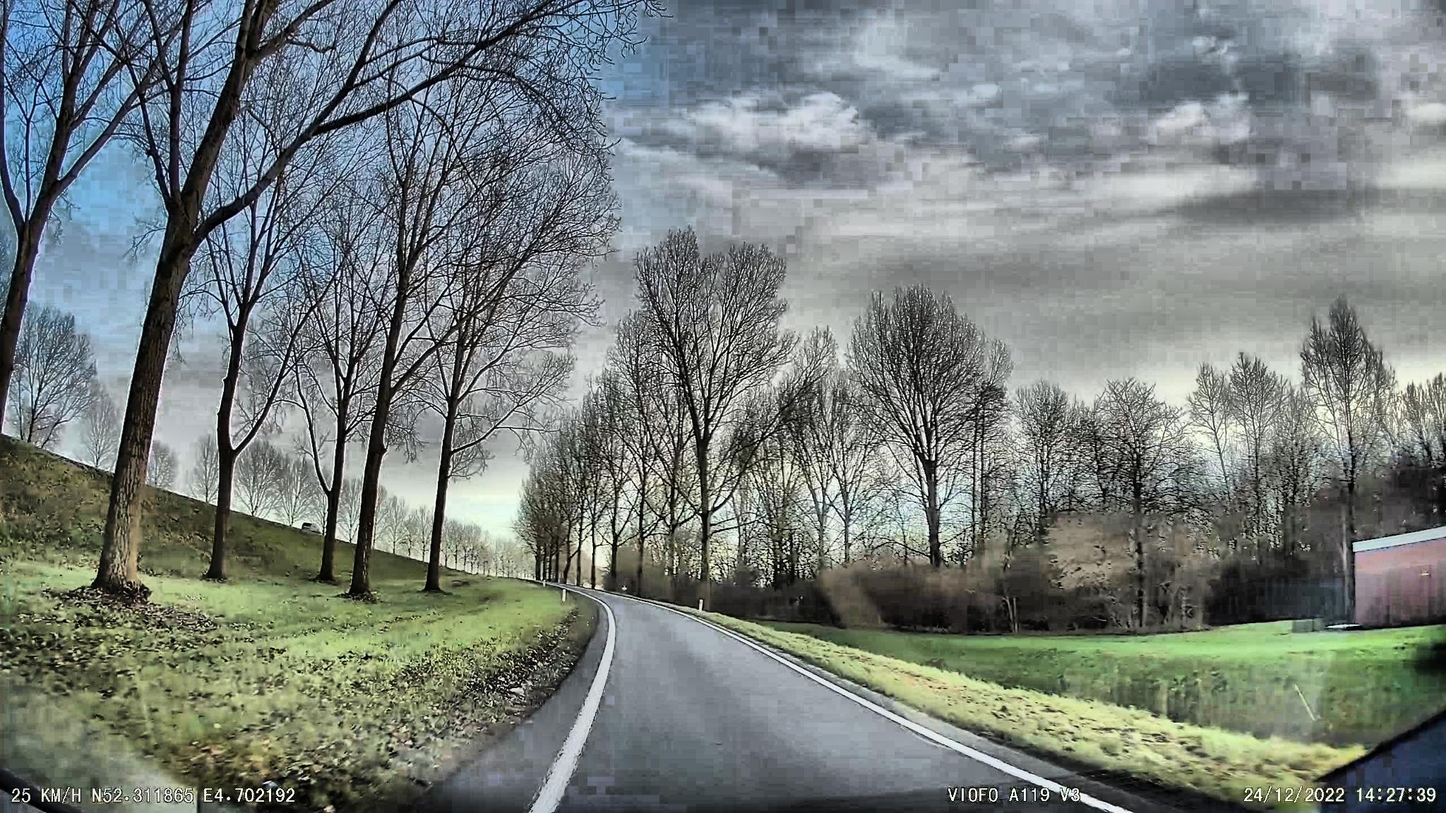Roads: (397, 594, 1260, 813)
